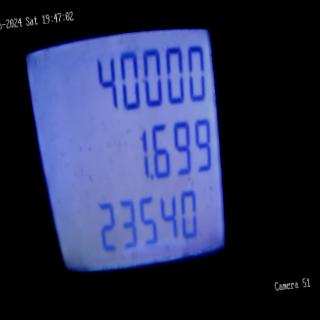screen: (16, 10, 245, 292)
